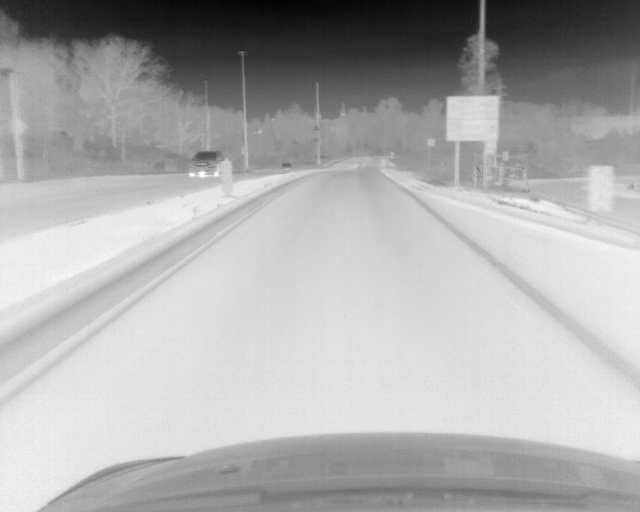car: (187, 149, 226, 177), (280, 161, 292, 171)
